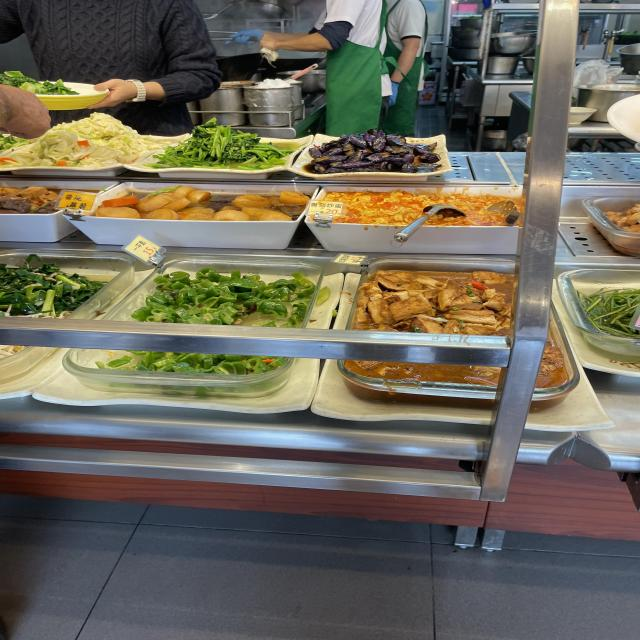Scramble Egg with Tomatoes: (354, 195, 408, 223)
cabbage: (53, 132, 130, 160)
eggplant: (338, 144, 428, 170)
